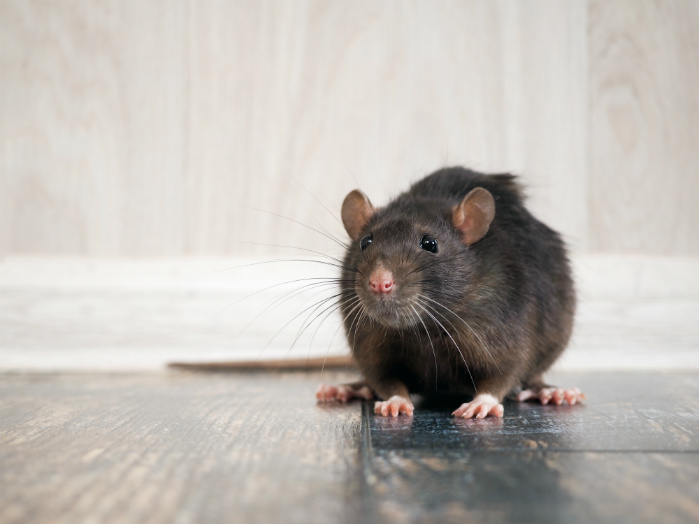rat: (283, 151, 604, 428)
